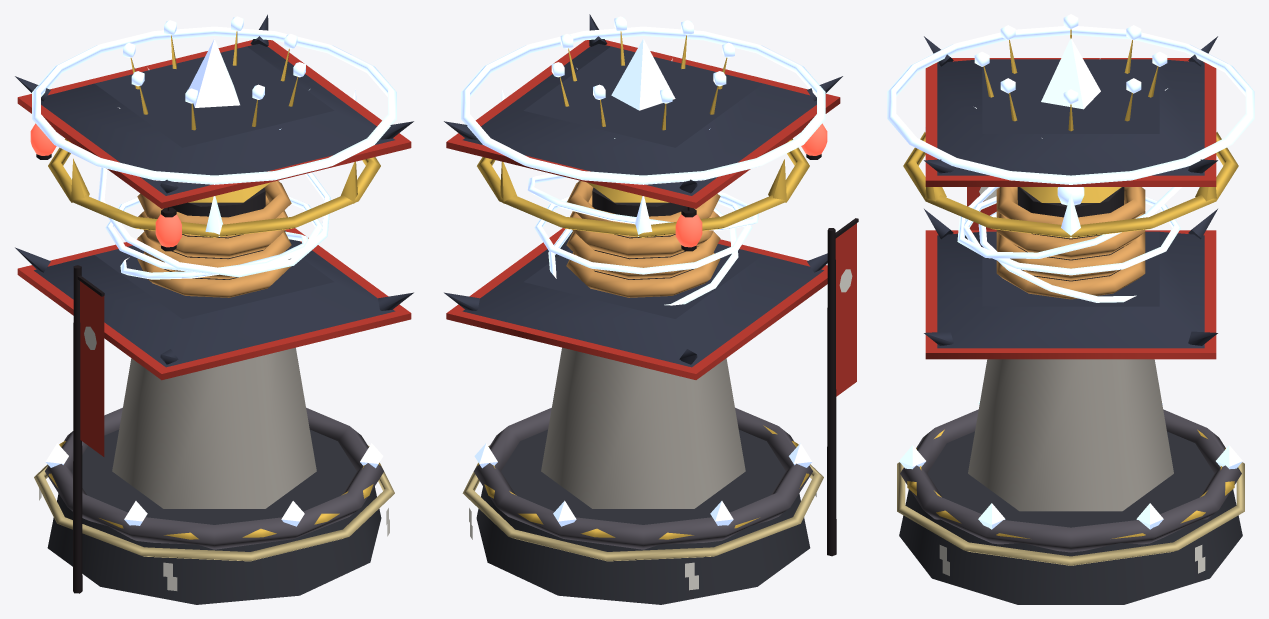
File: tower_chain_tempest_ultimate.glb
The picture shows the model from 3 angles, left to right: view 1: azimuth 30°, elevation 25°; view 2: azimuth 150°, elevation 25°; view 3: azimuth 270°, elevation 25°; orthographic projection.
Parts seen in each view (by area): view 1: deco_eave_0_roof, shaft, base, deco_eave_1_roof, base_rim, ult_halo, deco_eave_1_rim, deco_eave_0_rim, ult_crown_band, deco_shimenawa_rope, deco_nobori_cloth, deco_nobori_pole (+14 smaller); view 2: shaft, deco_eave_0_roof, base, deco_eave_1_roof, base_rim, ult_halo, deco_eave_1_rim, deco_eave_0_rim, ult_crown_band, deco_shimenawa_rope, deco_nobori_cloth, deco_nobori_pole (+14 smaller); view 3: shaft, deco_eave_0_roof, base, deco_eave_1_roof, base_rim, ult_halo, deco_eave_1_rim, deco_eave_0_rim, ult_crown_band, deco_shimenawa_rope, coil_3, coil_0 (+11 smaller).
Part boxes in pixels (<box>): deco_eave_0_roof: <box>41,44,394,195</box>; shaft: <box>112,347,316,508</box>; base: <box>47,429,381,604</box>; deco_eave_1_roof: <box>34,231,395,367</box>; base_rim: <box>45,407,383,549</box>; ult_halo: <box>32,26,396,184</box>; deco_eave_1_rim: <box>17,228,411,380</box>; deco_eave_0_rim: <box>17,40,411,208</box>; ult_crown_band: <box>48,138,380,237</box>; deco_shimenawa_rope: <box>34,445,394,561</box>; deco_nobori_cloth: <box>80,281,104,456</box>; deco_nobori_pole: <box>73,265,82,593</box>; shaft: <box>541,347,745,508</box>; deco_eave_0_roof: <box>463,44,816,195</box>; base: <box>476,429,810,604</box>; deco_eave_1_roof: <box>462,231,823,367</box>; base_rim: <box>473,407,812,549</box>; ult_halo: <box>461,26,825,184</box>; deco_eave_1_rim: <box>446,228,827,379</box>; deco_eave_0_rim: <box>446,40,840,208</box>; ult_crown_band: <box>477,138,809,237</box>; deco_shimenawa_rope: <box>462,445,823,561</box>; deco_nobori_cloth: <box>835,223,856,396</box>; deco_nobori_pole: <box>827,228,836,556</box>; shaft: <box>968,359,1173,511</box>; deco_eave_0_roof: <box>937,59,1204,175</box>; base: <box>899,431,1242,604</box>; deco_eave_1_roof: <box>937,231,1204,348</box>; base_rim: <box>900,409,1241,552</box>; ult_halo: <box>887,26,1254,184</box>; deco_eave_1_rim: <box>925,230,1216,359</box>; deco_eave_0_rim: <box>925,58,1216,186</box>; ult_crown_band: <box>903,132,1238,237</box>; deco_shimenawa_rope: <box>897,462,1244,565</box>; coil_3: <box>996,187,1145,238</box>; coil_0: <box>996,253,1145,299</box>.
Bounding box in the file's own units: 0.4427 × 0.64 × 0.4274.
